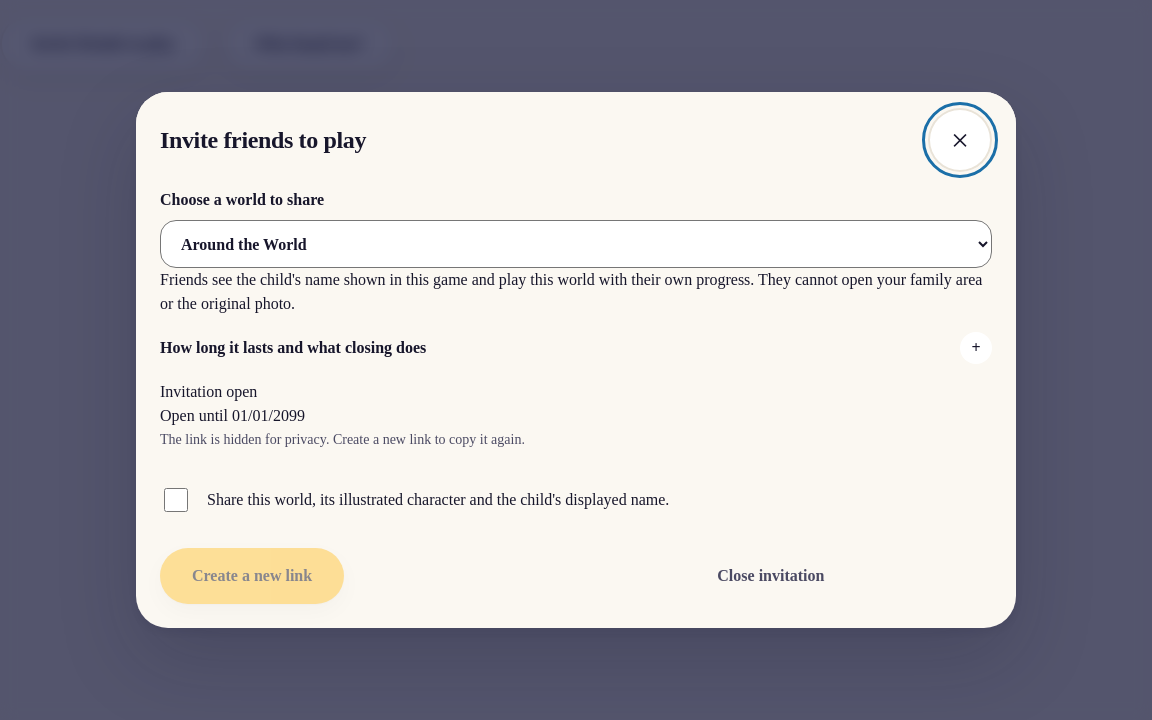
it: parent-managed friends invitations › closes the rotate confirmation when parent freshness is required, allowing reauth
The width and height of the screenshot is (1152, 720).
Expected: the text "Invitation open" is shown, 160,383 -> 257,400
Click the checkbox labelled "Share this world, its illustrated character and the child's displayed name.": coordinates (176, 500) 164,488 -> 188,512
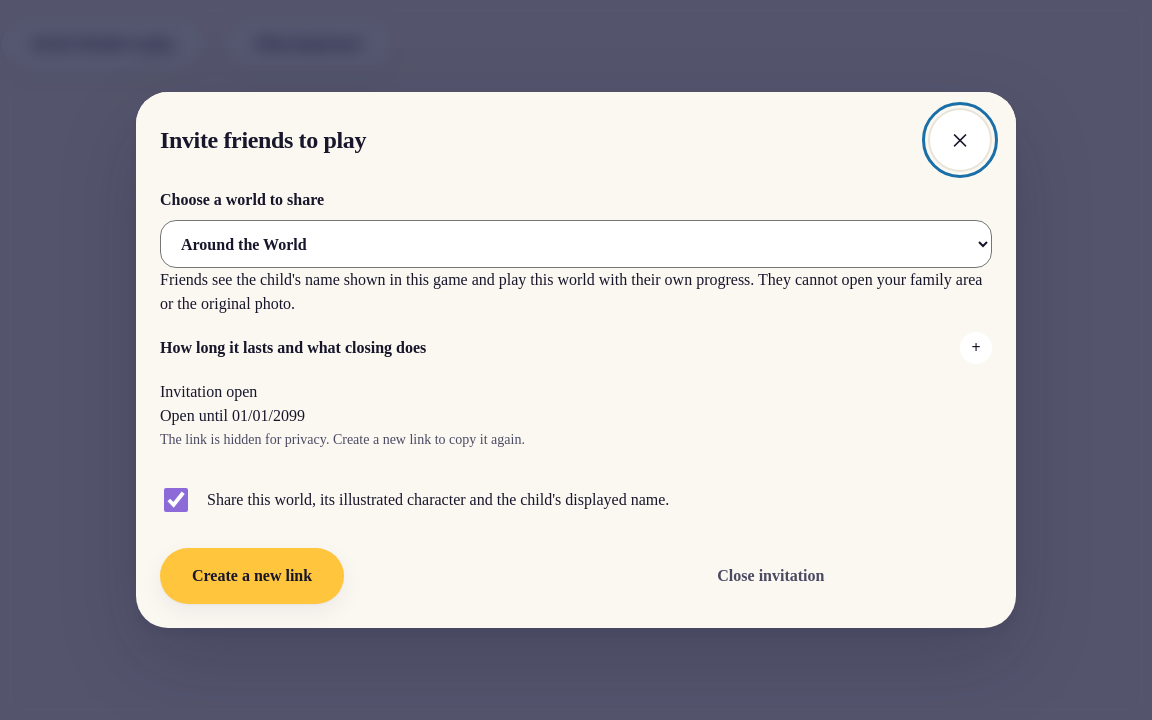
Click the button "Create a new link": coordinates (252, 576) 160,548 -> 344,604
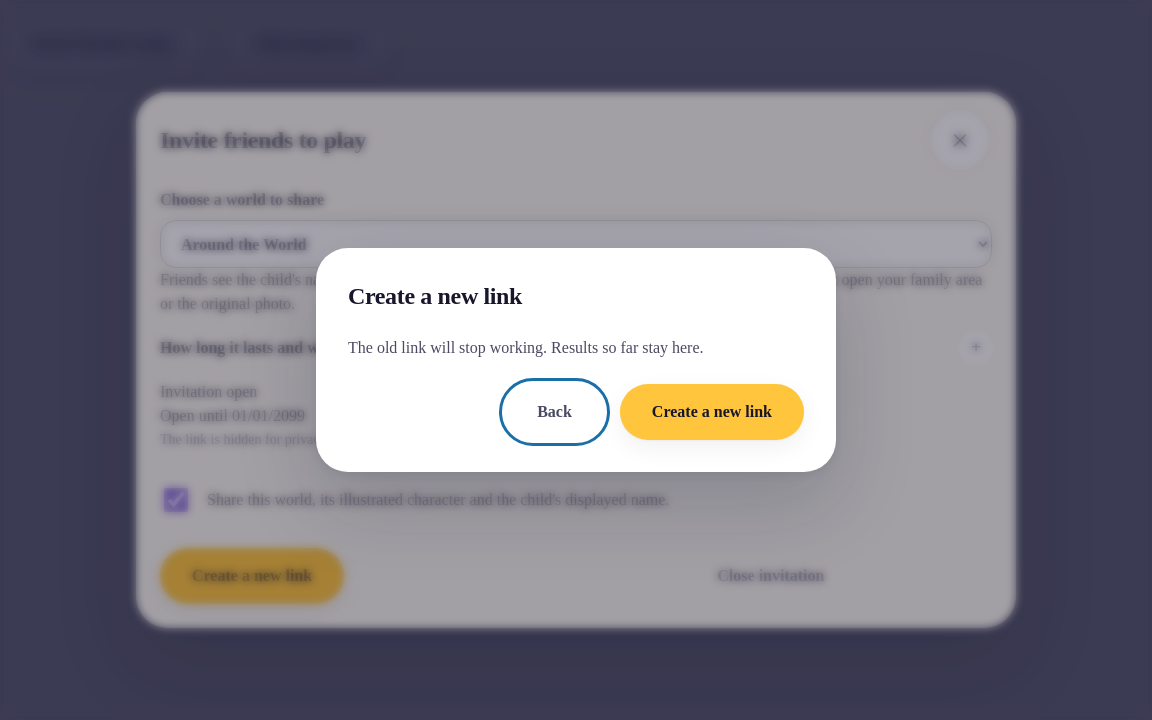
Click the button "Create a new link": coordinates (712, 412) 620,384 -> 804,440
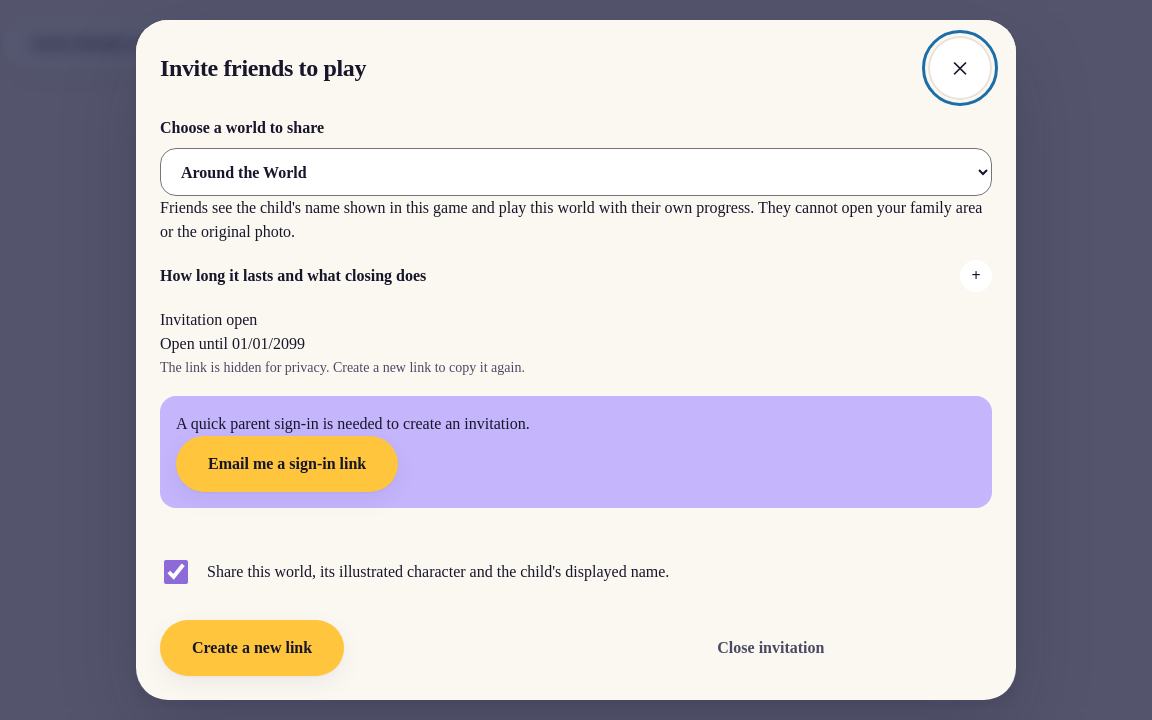
Expected: the text "A quick parent sign-in is needed to create an invitation." is shown, 176,415 -> 530,432
# The adult notice renders before the dialog's passive effect closes the native confirmation (as in FriendPlay).
Click the button "Email me a sign-in link": coordinates (287, 464) 176,436 -> 398,492
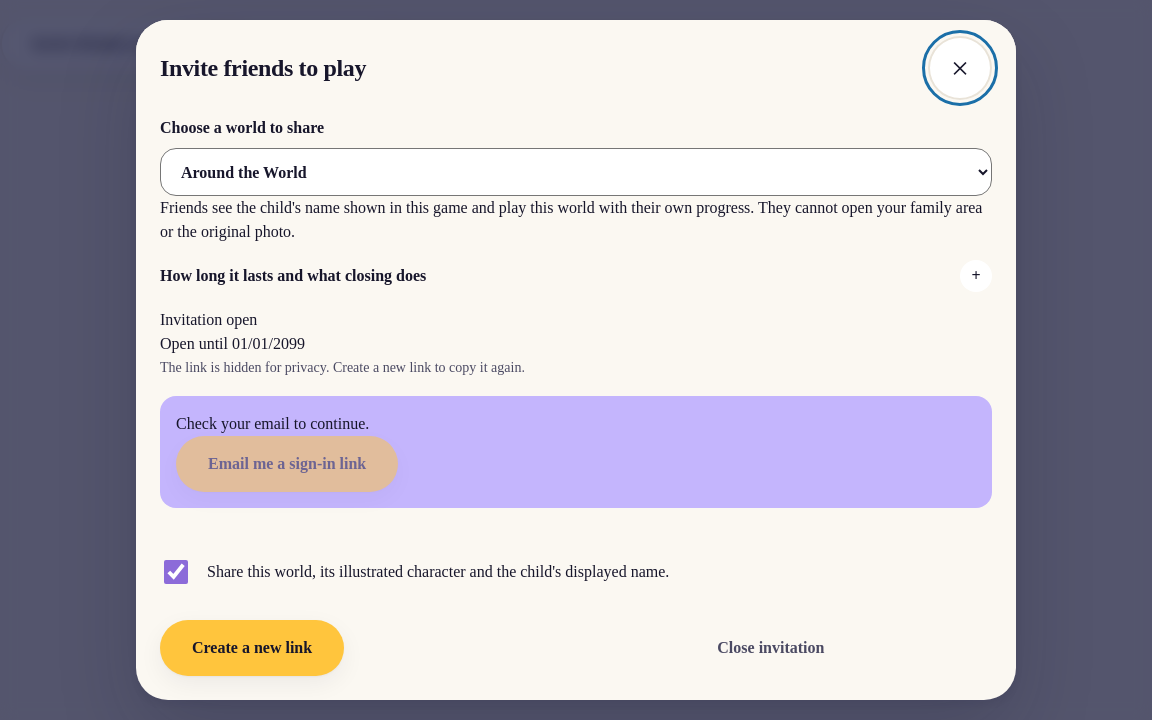
Expected: the text "Check your email to continue." is shown, 176,415 -> 369,432
Expected: the button "Email me a sign-in link" is disabled, 176,436 -> 398,492
